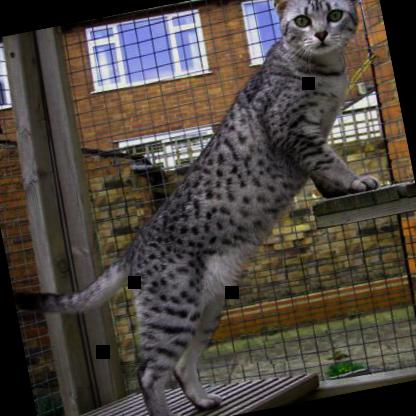cat: (269, 0, 374, 63)
